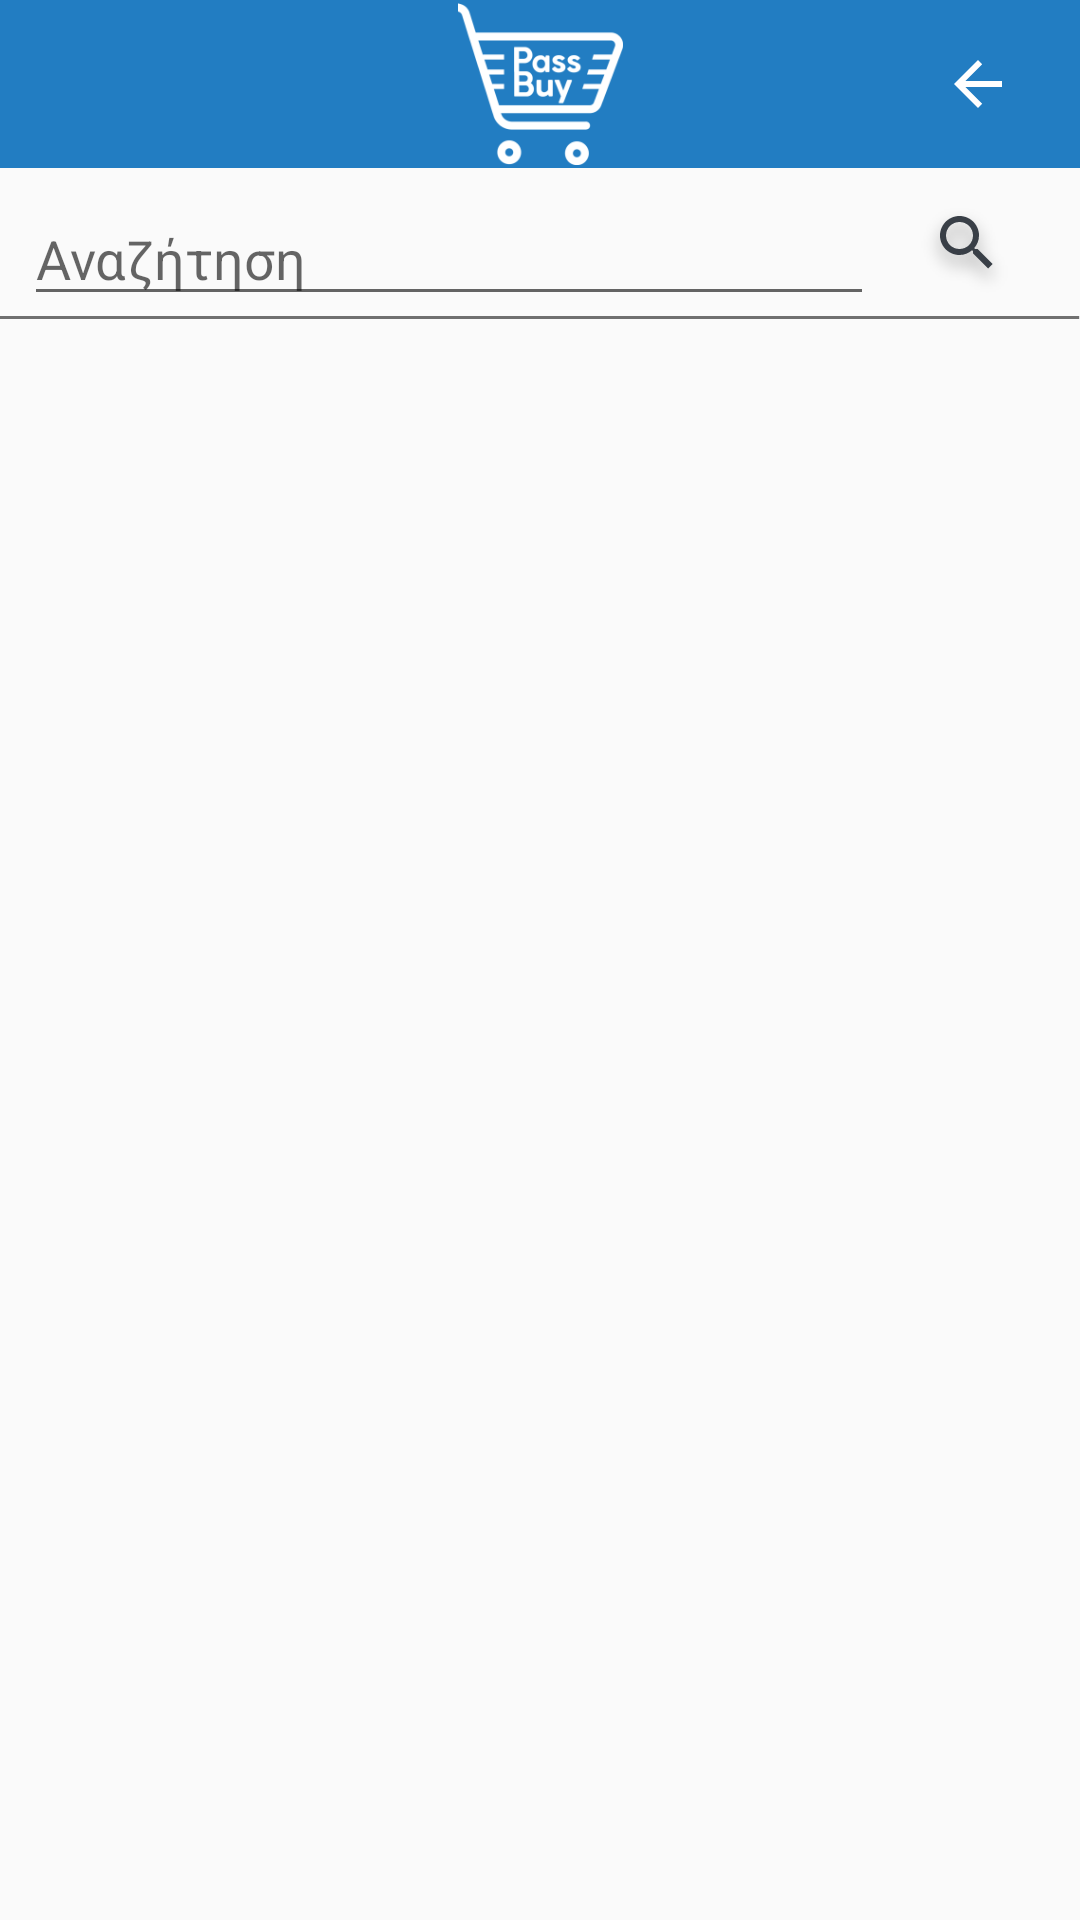

Where to tap for icons on this 1080px×1920px app screen, as (x=x, y=y):
back: (x=978, y=84)
search: (x=966, y=242)
